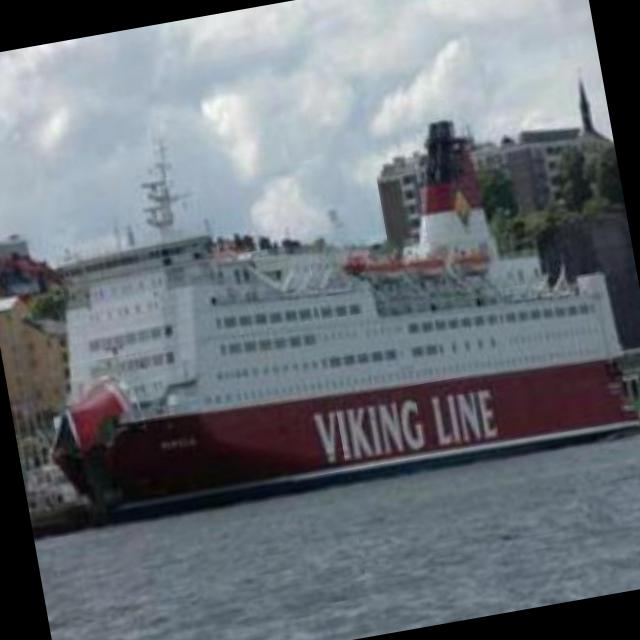boat: (11, 168, 640, 538)
